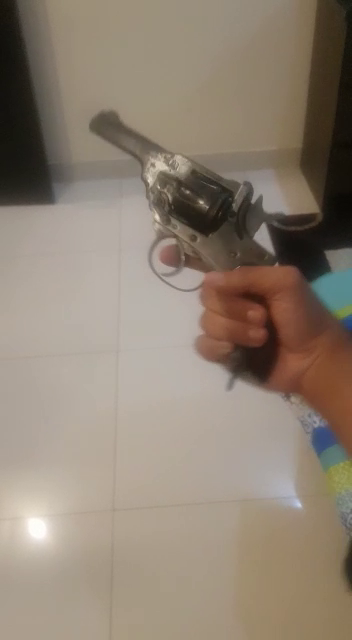handgun: (82, 95, 286, 432)
